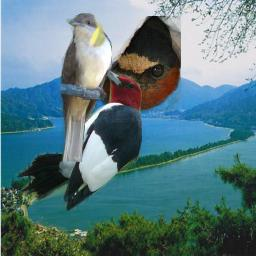Cuckoo: (58, 13, 112, 162)
Swallow: (97, 16, 181, 112)
Woodpecker: (15, 66, 142, 211)
